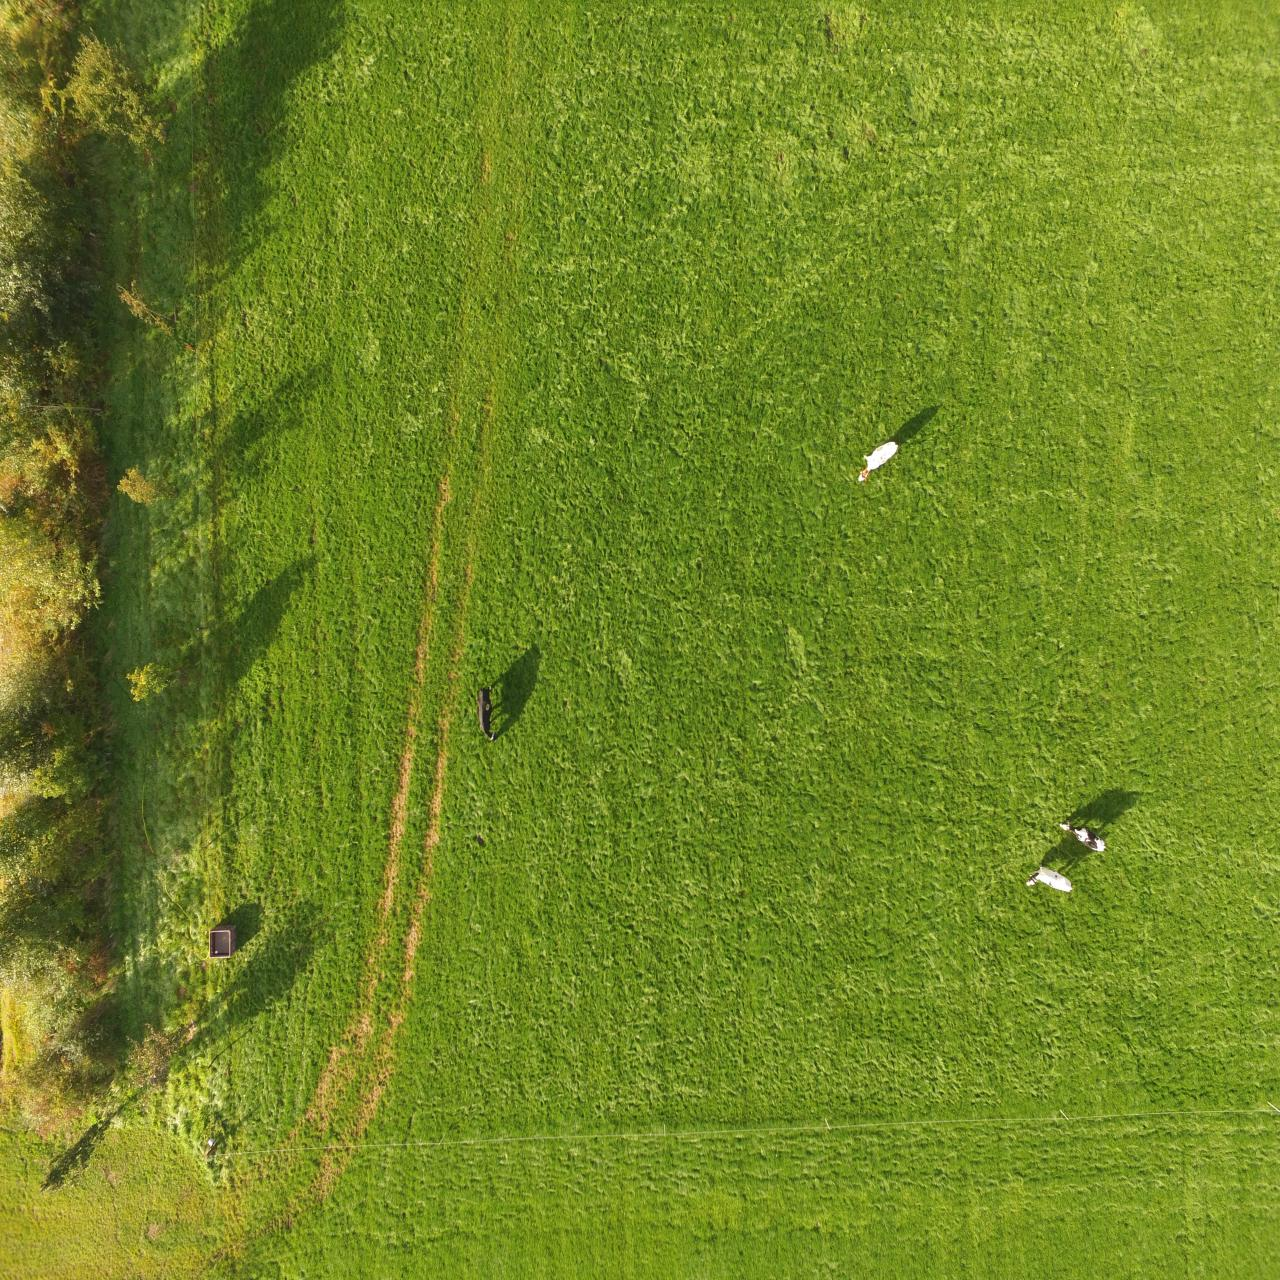cow: (856, 435, 900, 485), (1057, 817, 1107, 855), (1024, 863, 1074, 898), (474, 683, 498, 745)
